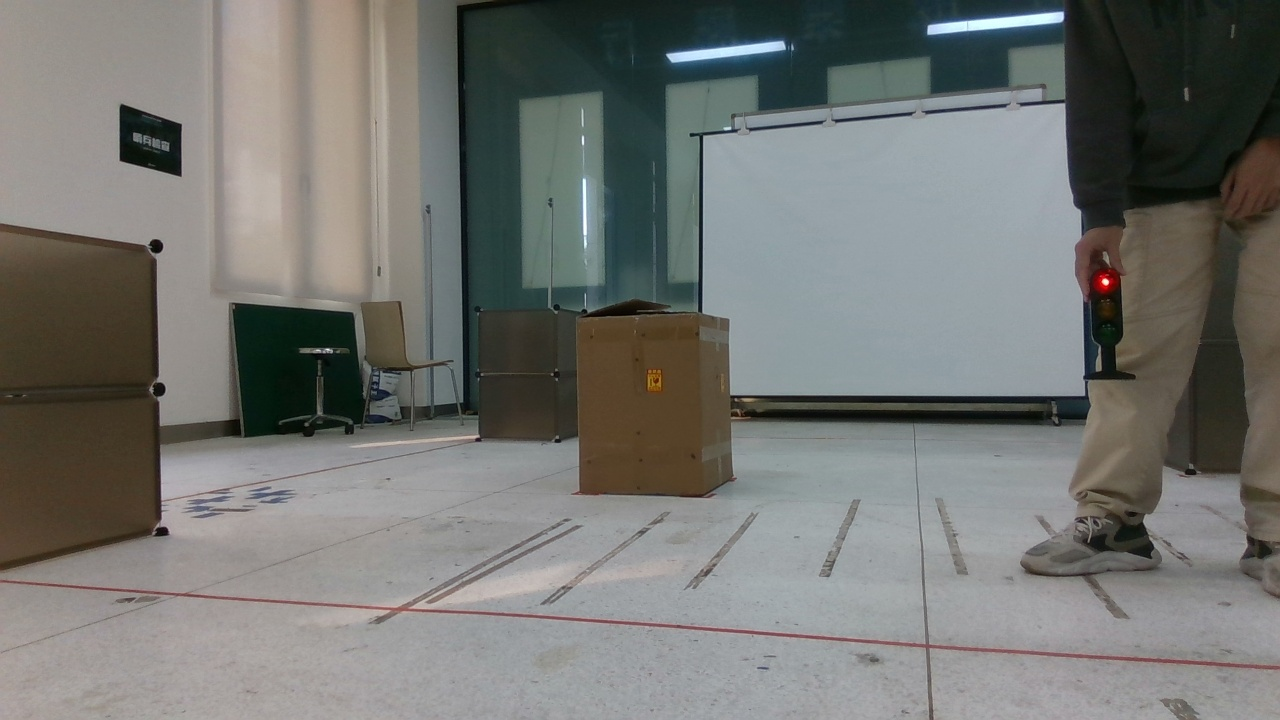red_light: (1076, 263, 1143, 392)
